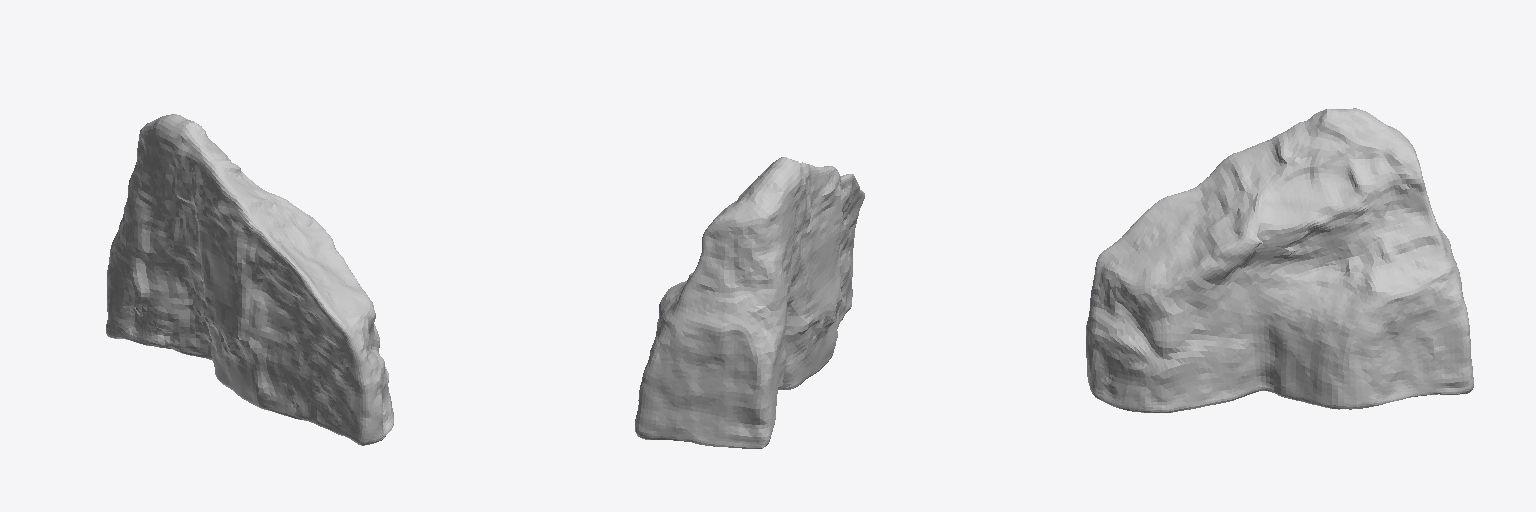
File: 1140722b5801_Large_Boulder_Mount.obj
3 views of the same model, side by side, from view 1: azimuth 30°, elevation 25°; view 2: azimuth 150°, elevation 25°; view 3: azimuth 270°, elevation 25° (orthographic).
Parts seen in each view (by area): view 1: mesh; view 2: mesh; view 3: mesh.
Part boxes in pixels (x1,y1,x2,y2): mesh: (106, 114, 393, 445); mesh: (635, 157, 864, 448); mesh: (1086, 108, 1473, 412).
Bounding box in the file's own units: 0.4521 × 0.7146 × 0.9986.